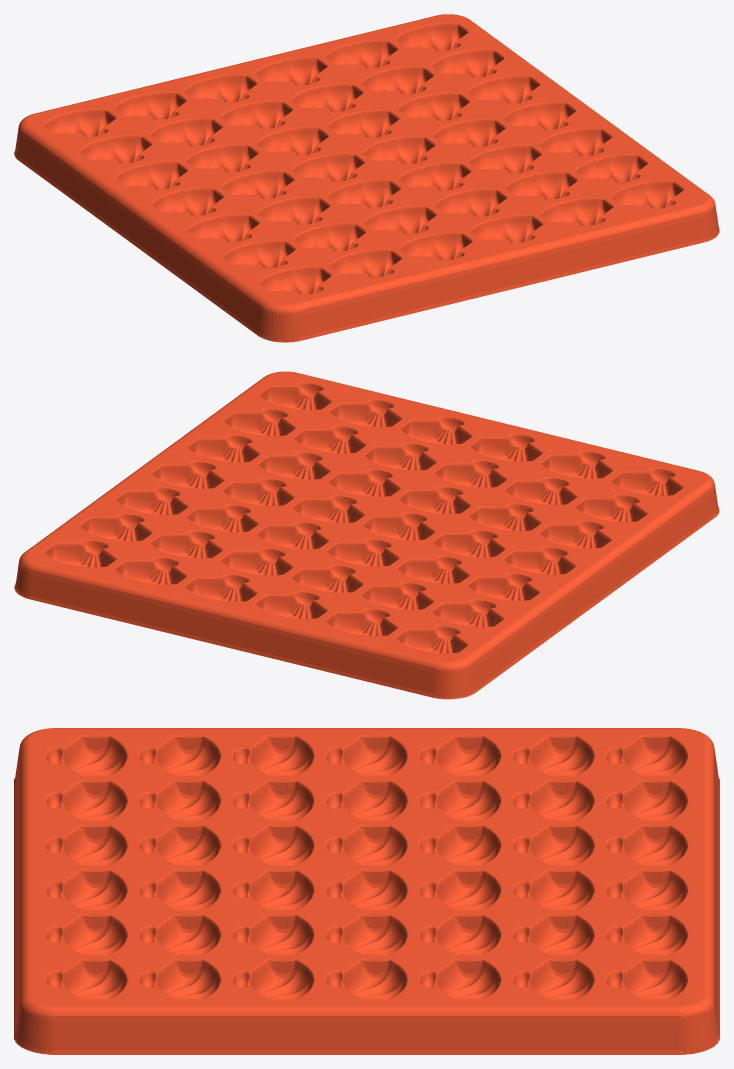
File: mold.glb
3 renders of one model, top to bottom at view 1: azimuth 30°, elevation 25°; view 2: azimuth 150°, elevation 25°; view 3: azimuth 270°, elevation 25°, orthographic. The views are drawn at different scales.
Visible parts, largest first — view 1: geometry_0; view 2: geometry_0; view 3: geometry_0.
Part boxes in pixels (x1,y1,x2,y2): geometry_0: (14, 14, 719, 342); geometry_0: (14, 371, 719, 699); geometry_0: (14, 728, 719, 1054).
Bounding box in the file's own units: 0.1502 × 0.0102 × 0.1543.
